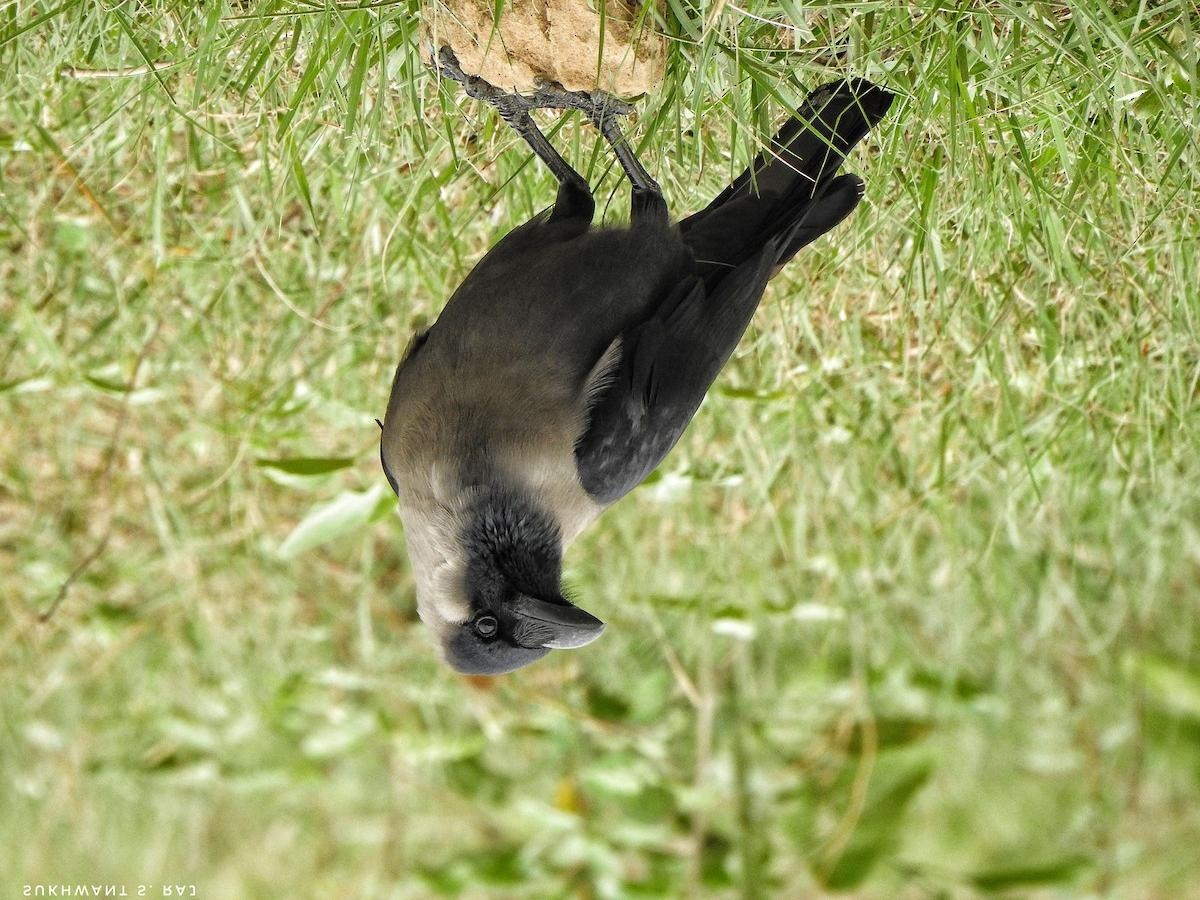crow: (361, 69, 889, 676)
